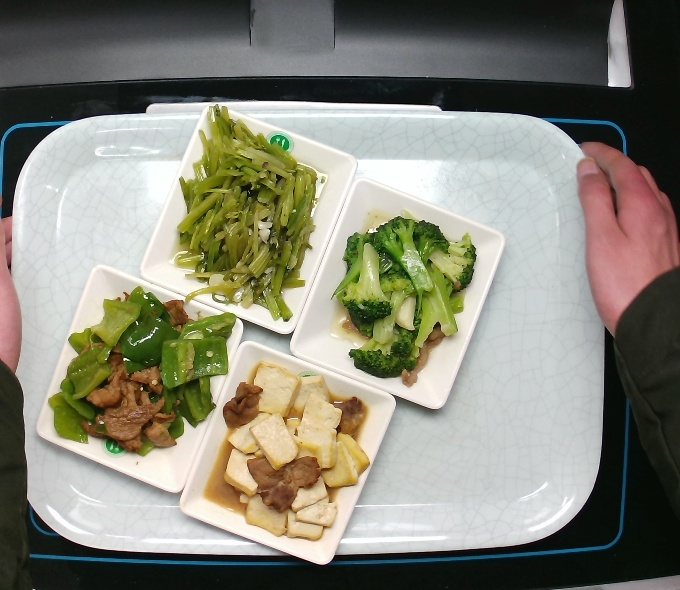wcq-DouFuRouPian: (208, 354, 376, 544)
wcq-QinCai: (169, 102, 322, 336)
wcq-QingJiaoChaoRou: (48, 291, 239, 462)
wcq-XiLanHua: (328, 199, 477, 381)
